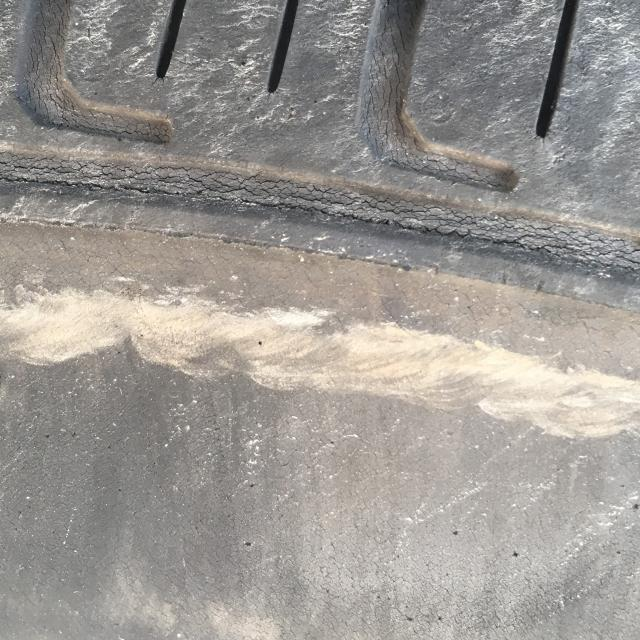Cracks: (0, 0, 640, 304), (332, 493, 640, 640)
